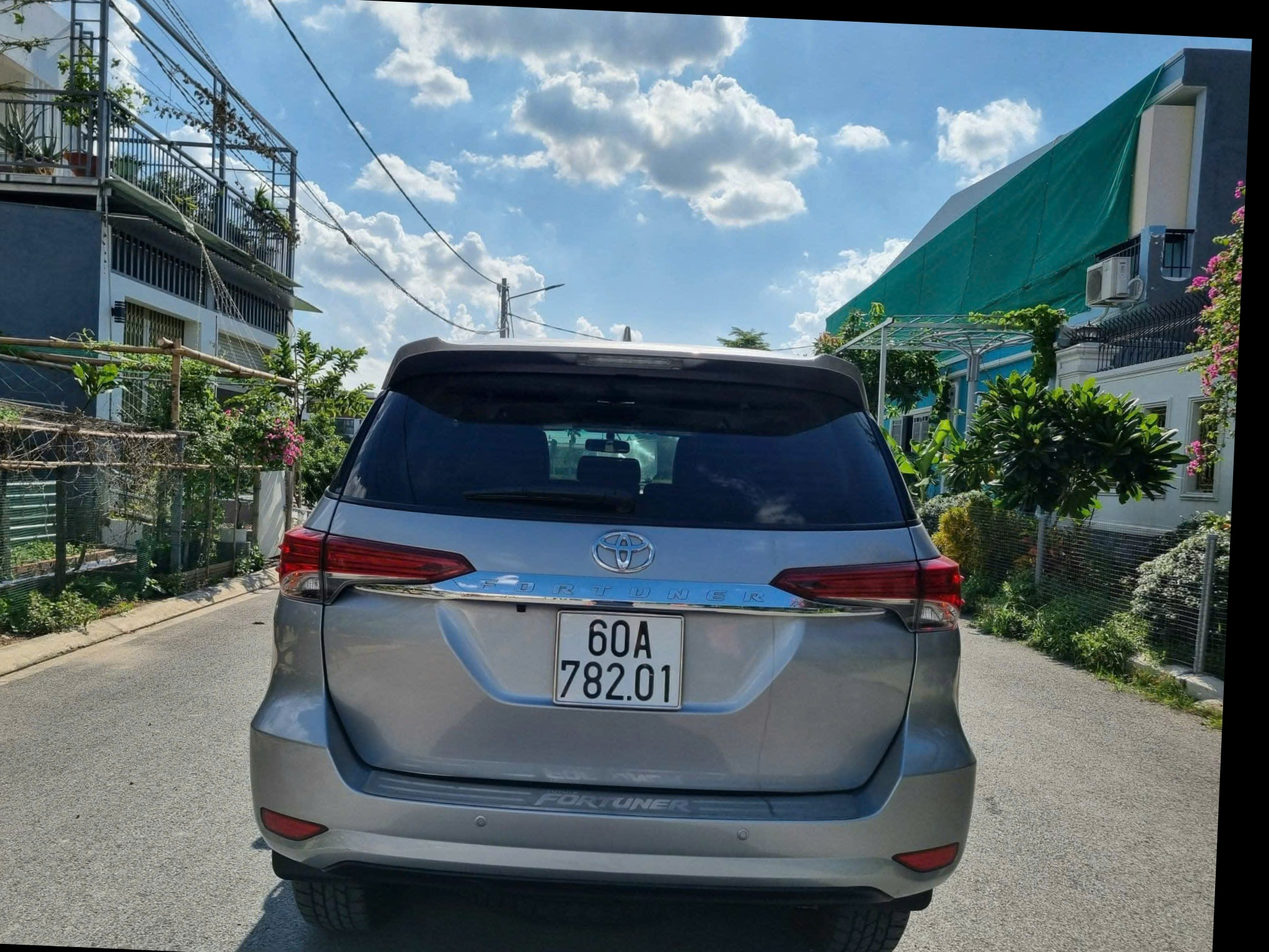Bien-so: (570, 598, 730, 711)
